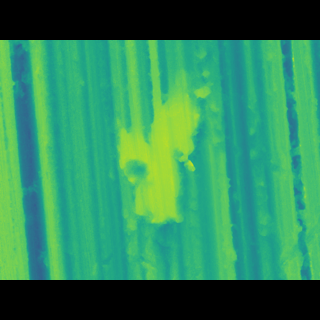Loch: (109, 79, 231, 216)
